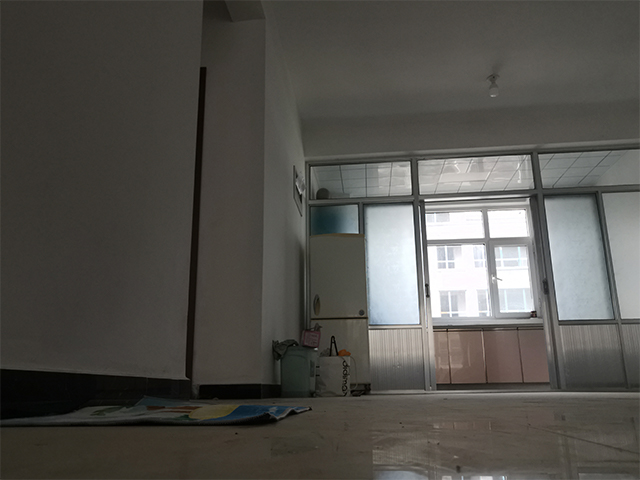cabinet: (431, 322, 553, 392)
carpet: (1, 393, 314, 428)
trashcan: (278, 343, 320, 398)
